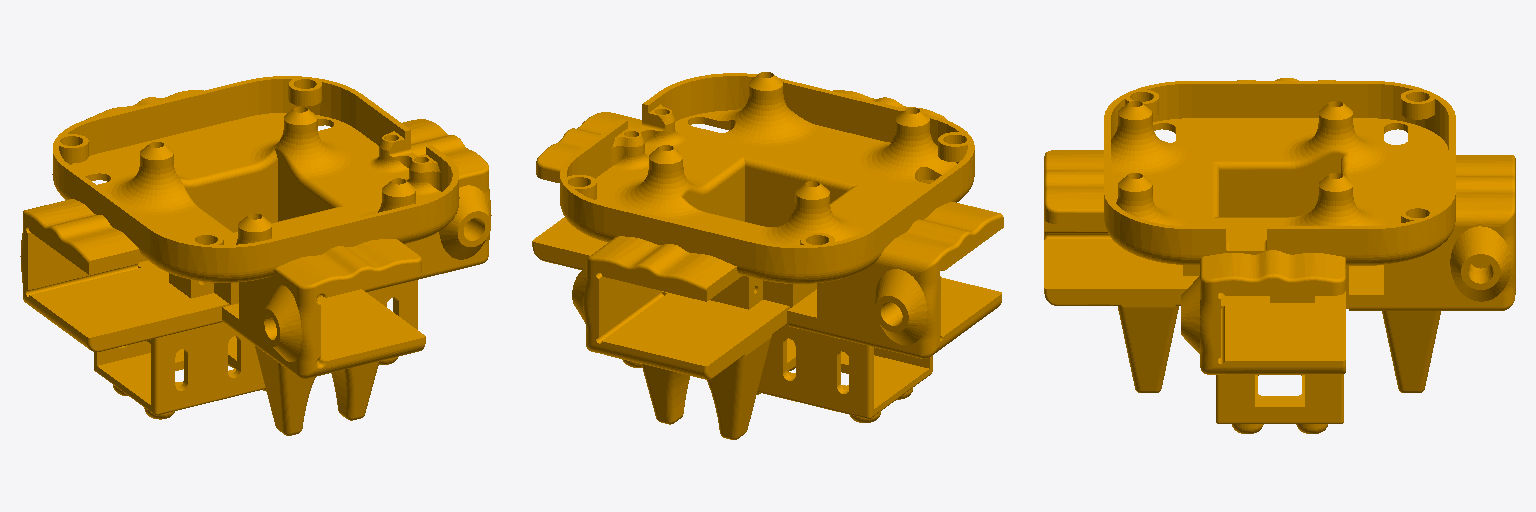
robot.urdf — component:
<?xml version="1.0"?>
<robot name="component" xmlns:xacro="http://www.ros.rog/wiki/xacro">
  <material name="white">
    <color rgba="1 1 1 0.8"/>
  </material>
  <link name="base_link">
    <collision>
      <geometry>
        <mesh filename="package://learning_urdf/meshes/chassis.stl" scale="0.001 0.001 0.001"/>
      </geometry>
      <origin xyz="-0.11 -0.068 0" rpy="0 0 0"/>
    </collision>
    <visual>
      <geometry>
        <mesh filename="package://learning_urdf/meshes/chassis.stl" scale="0.001 0.001 0.001"/>
      </geometry>
      <origin xyz="-0.11 -0.068 0" rpy="0 0 0"/>
    </visual>
  </link>
  <!--link name="base_link">
    <collision>
      <geometry>
        <mesh filename="package://learning_urdf/meshes/femur.stl" scale="0.001 0.001 0.001"/>
      </geometry>
      <origin xyz="-0.00825 0.0455 -0.022" rpy="3.1415926 -1.57075 0"/>
    </collision>
    <visual>
      <geometry>
        <mesh filename="package://learning_urdf/meshes/femur.stl" scale="0.001 0.001 0.001"/>
      </geometry>
      <origin xyz="-0.00825 0.0455 -0.022" rpy="3.1415926 -1.57075 0"/>
      <material name="white"/>
    </visual>
  </link-->
  <!--link name="base_link">
    <collision>
      <geometry>
        <mesh filename="package://learning_urdf/meshes/tibia.stl" scale="0.001 0.001 0.001"/>
      </geometry>
      <origin xyz="0.1735 0.0215 -0.02" rpy="1.57075 0 -1.57075"/>
    </collision>
    <visual>
      <geometry>
        <mesh filename="package://learning_urdf/meshes/tibia.stl" scale="0.001 0.001 0.001"/>
      </geometry>
      <origin xyz="0.1735 0.0215 -0.02" rpy="1.57075 0 -1.57075"/>
      <material name="white"/>
    </visual>
  </link-->
</robot>

--- What the picture shows (computed from the rendered views, not written in the file) ---
Views: 3 orthographic renders of the robot side by side, from view 1: azimuth 30°, elevation 25°; view 2: azimuth 150°, elevation 25°; view 3: azimuth 270°, elevation 25°.
Model component with 1 links and 0 joints (none), rooted at base_link, posed all joints at 0.
Visible links, largest first — view 1: base_link; view 2: base_link; view 3: base_link.
Boxes of the visible links, x1=… form: base_link: x1=20, y1=76, x2=491, y2=435; base_link: x1=532, y1=72, x2=1003, y2=439; base_link: x1=1044, y1=78, x2=1515, y2=433.
Size in the robot's own frame: 0.136 by 0.136 by 0.075 metres.
Meshes: 1 distinct files referenced, 1 mesh visuals loaded (1 binary STL).